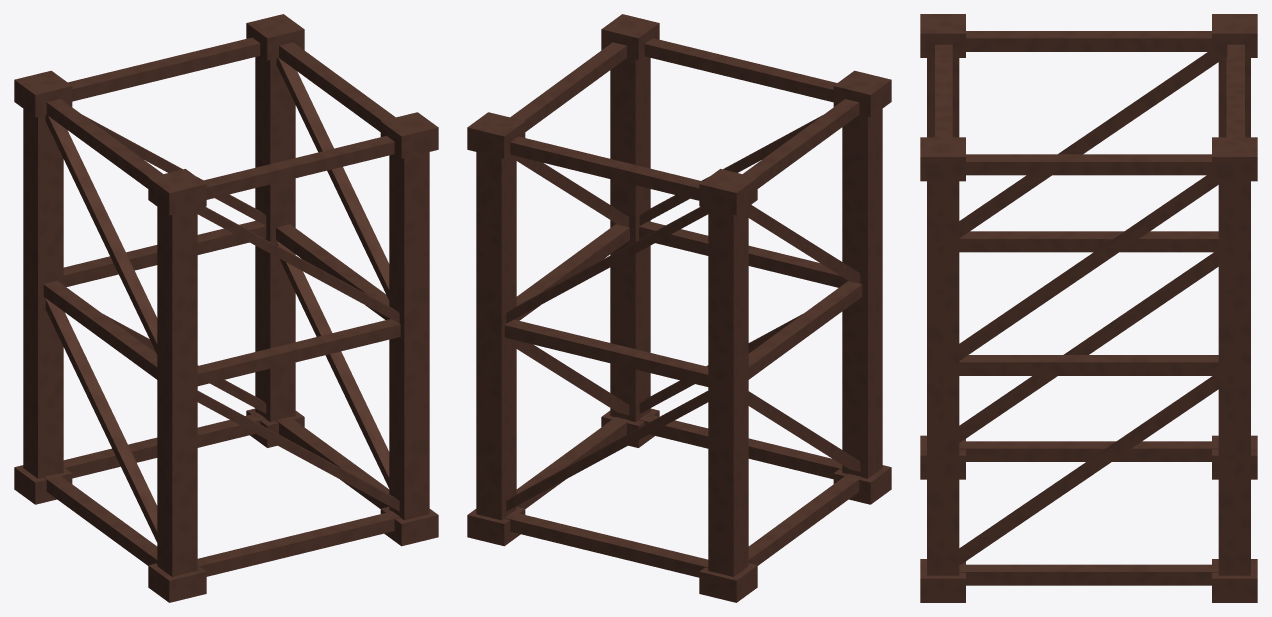
File: IronThing3.fbx
3 renders of one model, left to right at view 1: azimuth 30°, elevation 25°; view 2: azimuth 150°, elevation 25°; view 3: azimuth 270°, elevation 25°, orthographic. The views are drawn at different scales.
Visible parts, largest first — view 1: Cube.027; view 2: Cube.027; view 3: Cube.027.
Boxes of the visible parts, x1,y1,x2,y2 form: Cube.027: (14,14,438,602); Cube.027: (467,14,891,602); Cube.027: (920,14,1257,602).
Size of the model in its own units: 153 by 223 by 153.
